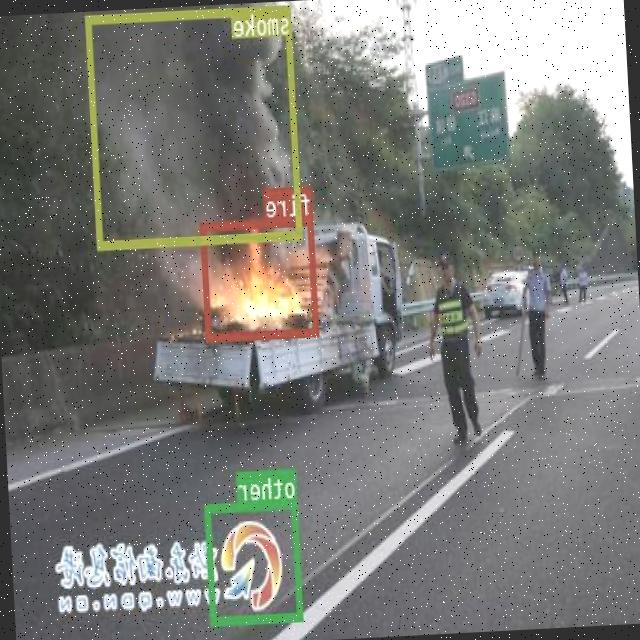fire: (202, 215, 320, 341)
smoke: (86, 4, 304, 250)
